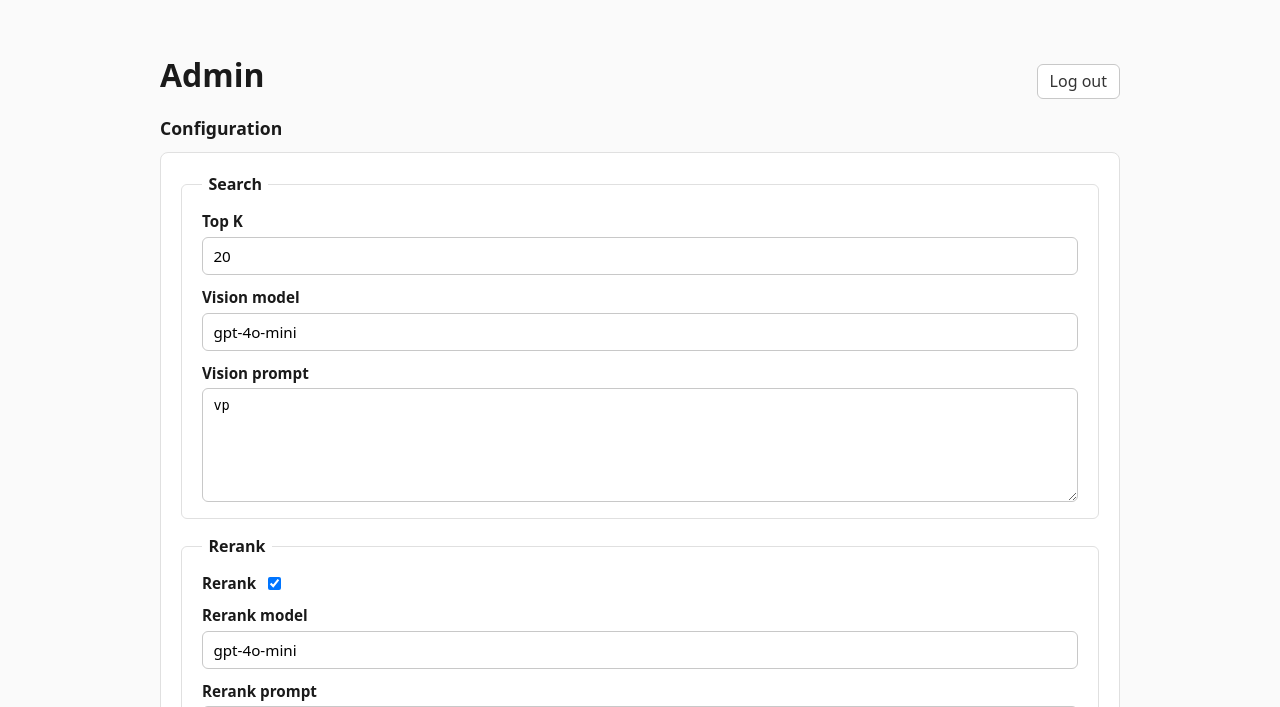
Test: Admin page › clicking Logout clears session and re-renders the login form
Click the button "Log out". click: (1078, 81)
box: [1037,64,1120,99]
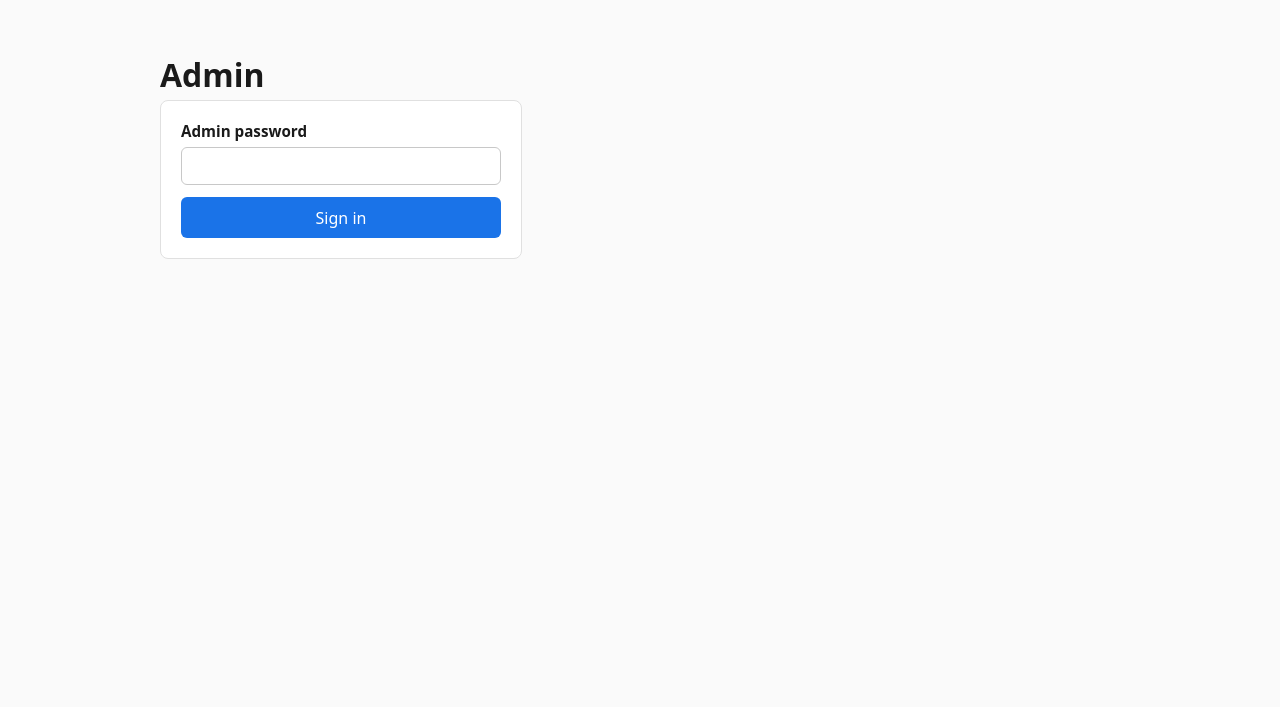
expect the password field labelled "Admin password" is shown: met, box [181,147,501,185]
